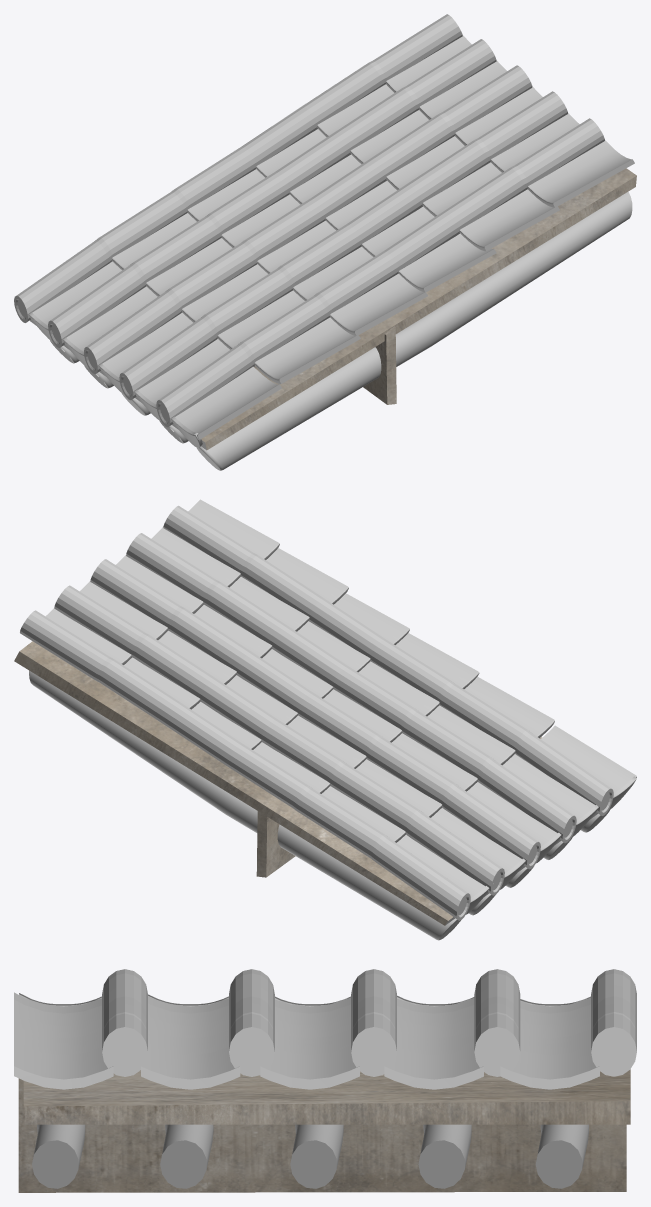
Rendered from SM_Roof_54.fbx.
3 renders of one model, top to bottom at view 1: azimuth 30°, elevation 25°; view 2: azimuth 150°, elevation 25°; view 3: azimuth 270°, elevation 25°, orthographic. The views are drawn at different scales.
Parts seen in each view (by area): view 1: SM_Roof_54; view 2: SM_Roof_54; view 3: SM_Roof_54.
Boxes of the visible parts, x1,y1,x2,y2 form: SM_Roof_54: (14,14,636,470); SM_Roof_54: (14,499,636,940); SM_Roof_54: (14,969,636,1192).
Size of the model in its own units: 338 by 238 by 175.
